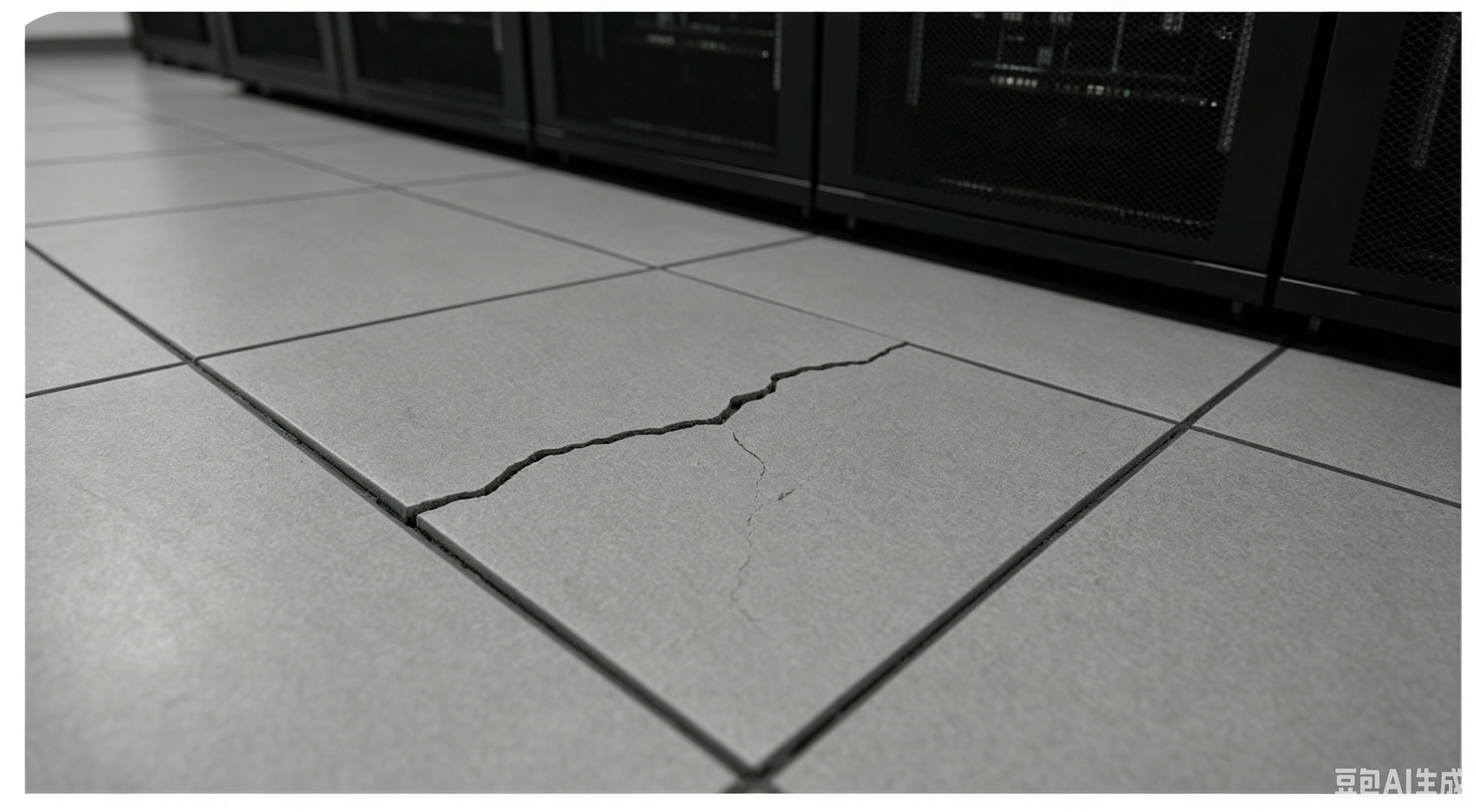floor_defect: (391, 441, 646, 528), (720, 441, 767, 668), (703, 359, 834, 407), (596, 405, 761, 441), (820, 330, 921, 378)
